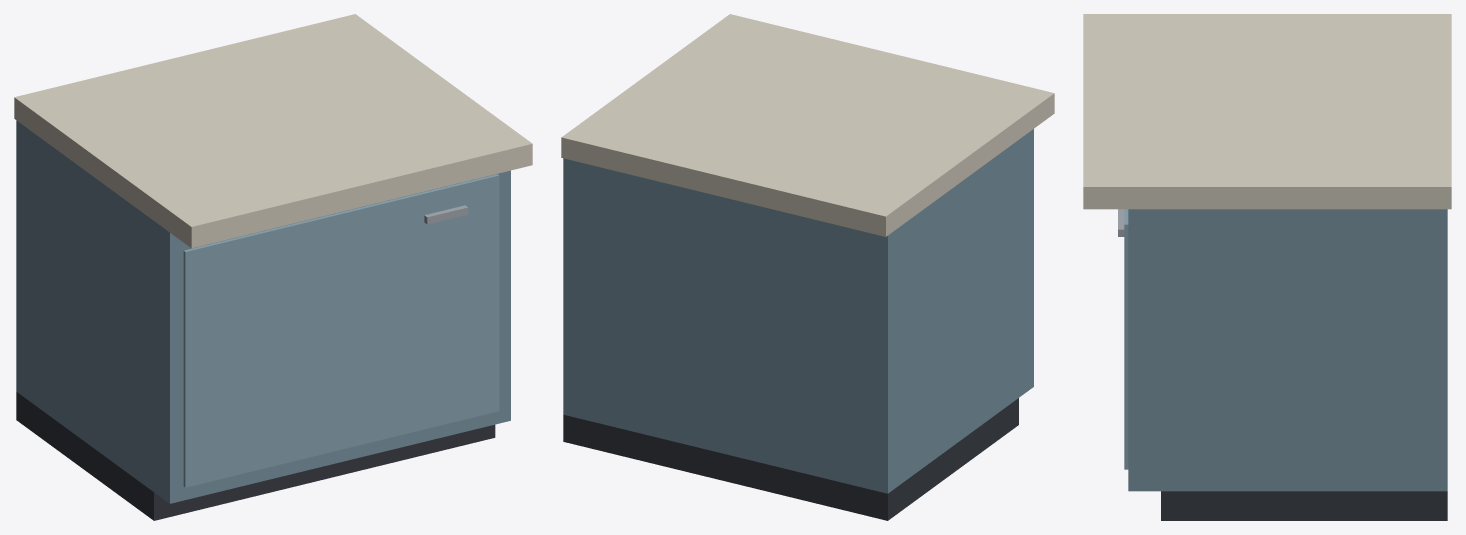
The model's file is counter.glb.
3 renders of one model, left to right at view 1: azimuth 30°, elevation 25°; view 2: azimuth 150°, elevation 25°; view 3: azimuth 270°, elevation 25°, orthographic. The views are drawn at different scales.
Parts seen in each view (by area): view 1: counter_mesh; view 2: counter_mesh; view 3: counter_mesh.
Boxes of the visible parts, x1,y1,x2,y2 form: counter_mesh: (14, 14, 532, 520); counter_mesh: (561, 14, 1054, 520); counter_mesh: (1083, 14, 1451, 520).
Size of the model in its own units: 1 by 0.9 by 0.9.
